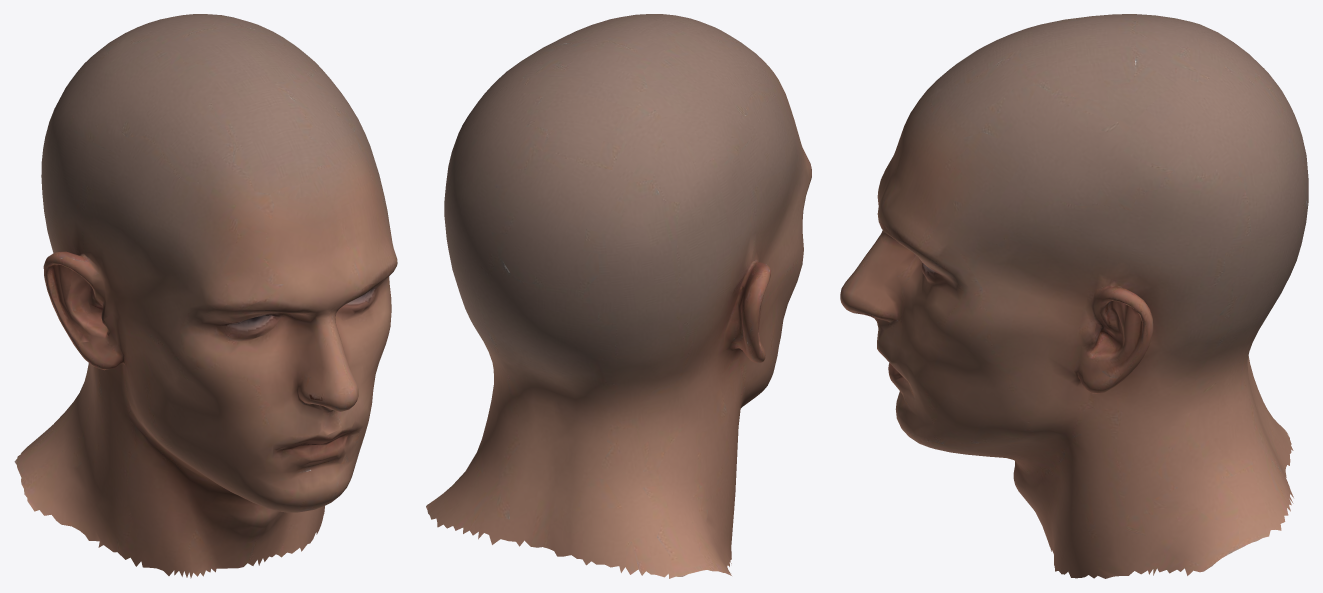
Rendered from head_m1.glb.
3 views of the same model, side by side, from view 1: azimuth 30°, elevation 25°; view 2: azimuth 150°, elevation 25°; view 3: azimuth 270°, elevation 25° (orthographic).
Visible parts, largest first — view 1: Head; view 2: Head; view 3: Head.
Boxes of the visible parts, <box> form: Head: <box>14,14,397,578</box>; Head: <box>426,14,811,578</box>; Head: <box>840,14,1308,578</box>.
Size of the model in its own units: 0.8345 by 1.33 by 1.09.
1 material, 1 textured.
